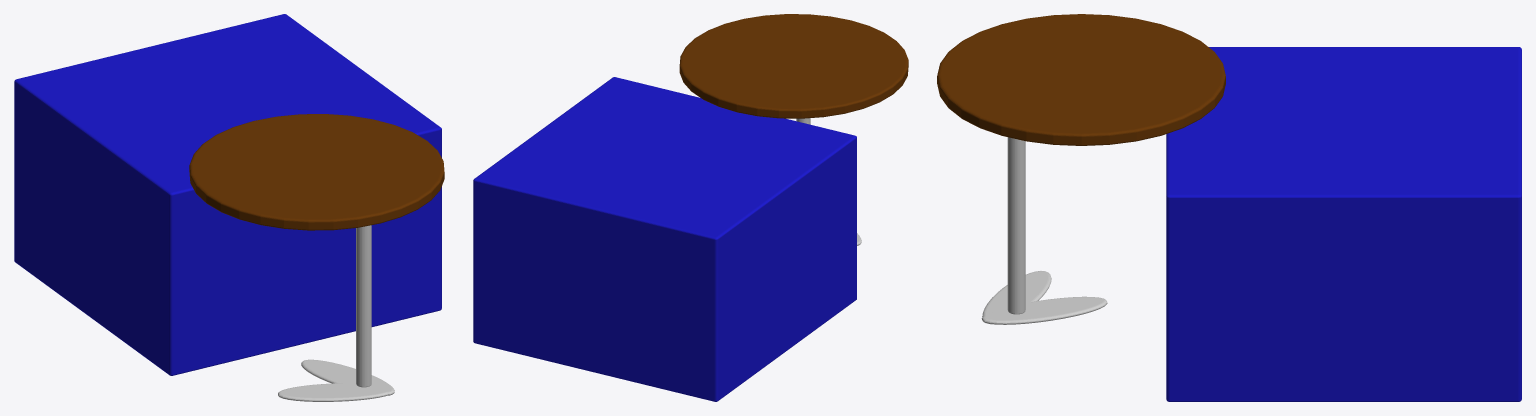
File: Ornament.obj
3 views of the same model, side by side, from view 1: azimuth 30°, elevation 25°; view 2: azimuth 150°, elevation 25°; view 3: azimuth 270°, elevation 25° (orthographic). The views are drawn at different scales.
Parts seen in each view (by area): view 1: Cube.003_COUCHES, Cube.003_NORMAL, Cube.003_Material.001; view 2: Cube.003_COUCHES, Cube.003_NORMAL; view 3: Cube.003_COUCHES, Cube.003_NORMAL, Cube.003_Material.001.
Part boxes in pixels (x1,y1,x2,y2): Cube.003_COUCHES: (14,14,441,375); Cube.003_NORMAL: (189,114,444,230); Cube.003_Material.001: (278,225,394,401); Cube.003_COUCHES: (473,77,856,401); Cube.003_NORMAL: (679,14,908,118); Cube.003_COUCHES: (1166,47,1521,401); Cube.003_NORMAL: (937,14,1225,145); Cube.003_Material.001: (981,137,1107,324).
Bounding box in the file's own units: 1.61 × 1.19 × 2.63.
